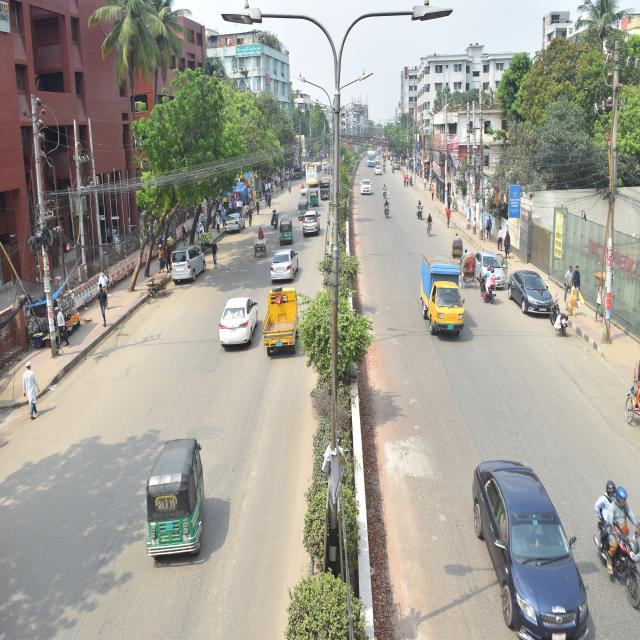bus: (302, 155, 329, 188), (368, 146, 378, 166)
car: (463, 429, 590, 640), (220, 285, 259, 353), (508, 269, 552, 319), (465, 246, 507, 294), (268, 246, 301, 282), (220, 210, 248, 234), (302, 209, 325, 238), (359, 177, 378, 200)
microbus: (170, 244, 208, 286)
motorbike: (591, 480, 640, 614), (544, 288, 572, 340), (476, 265, 502, 312), (267, 205, 283, 229), (383, 193, 396, 220), (413, 196, 425, 221)
pickup-van: (416, 244, 465, 350), (258, 282, 305, 358)
